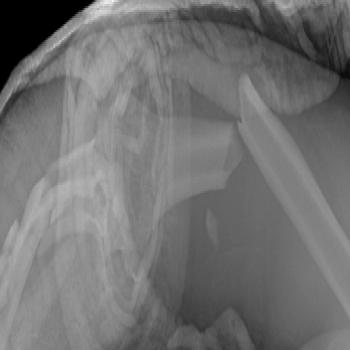Fracture: (222, 62, 255, 197)
